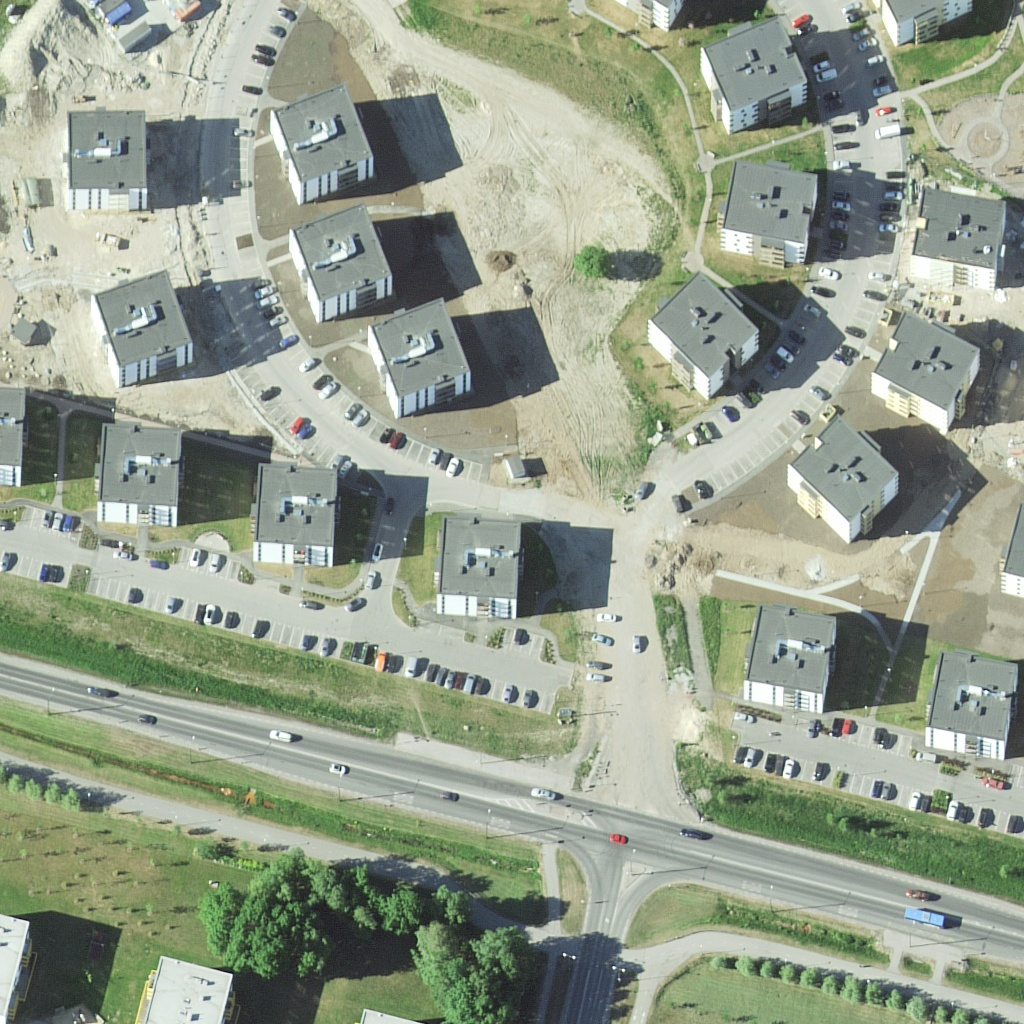building: (280, 204, 394, 330), (788, 415, 907, 535), (645, 270, 763, 389), (696, 23, 809, 145), (83, 262, 203, 376), (367, 289, 475, 413), (263, 90, 382, 202), (716, 159, 835, 270), (869, 311, 980, 425), (914, 650, 1022, 764), (436, 510, 532, 631), (902, 186, 1010, 293), (742, 604, 836, 718), (248, 459, 347, 566), (60, 106, 156, 216), (96, 416, 190, 526), (137, 958, 237, 1024)
